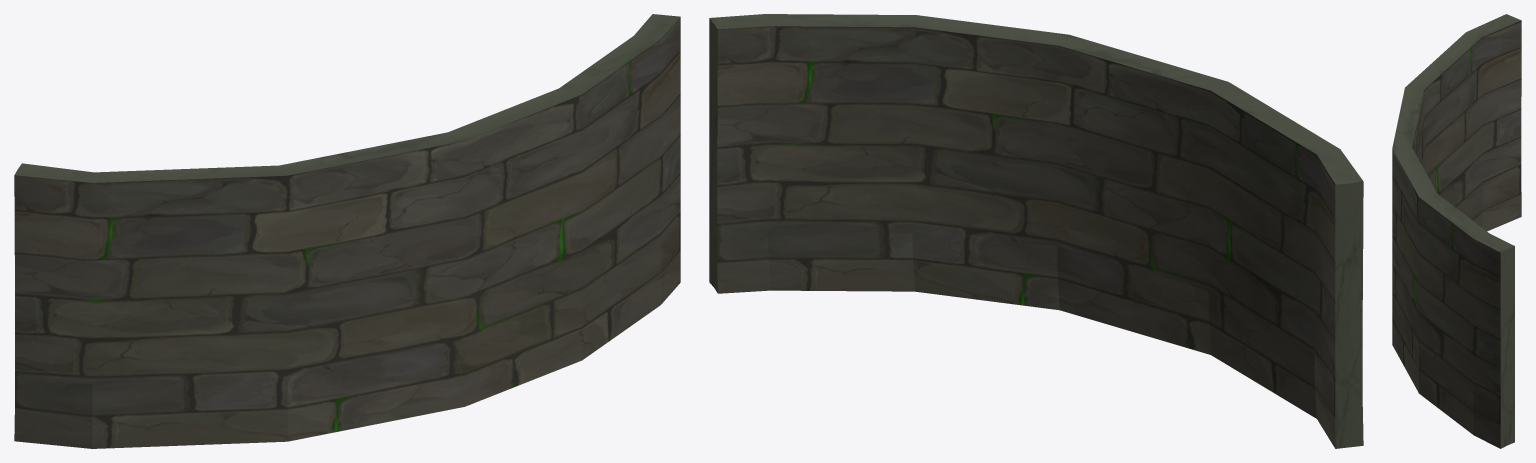
File: SM_Wall_Corner_Outer_True.fbx
The picture shows the model from 3 angles, left to right: view 1: azimuth 30°, elevation 25°; view 2: azimuth 150°, elevation 25°; view 3: azimuth 270°, elevation 25°; orthographic projection. The views are drawn at different scales.
Visible parts, largest first — view 1: SM_Wall_CornerC20; view 2: SM_Wall_CornerC20; view 3: SM_Wall_CornerC20.
Boxes of the visible parts, x1,y1,x2,y2 form: SM_Wall_CornerC20: [14, 14, 680, 448]; SM_Wall_CornerC20: [709, 14, 1363, 448]; SM_Wall_CornerC20: [1392, 14, 1521, 448].
Bounding box in the file's own units: 6.51 × 2.5 × 1.49.
